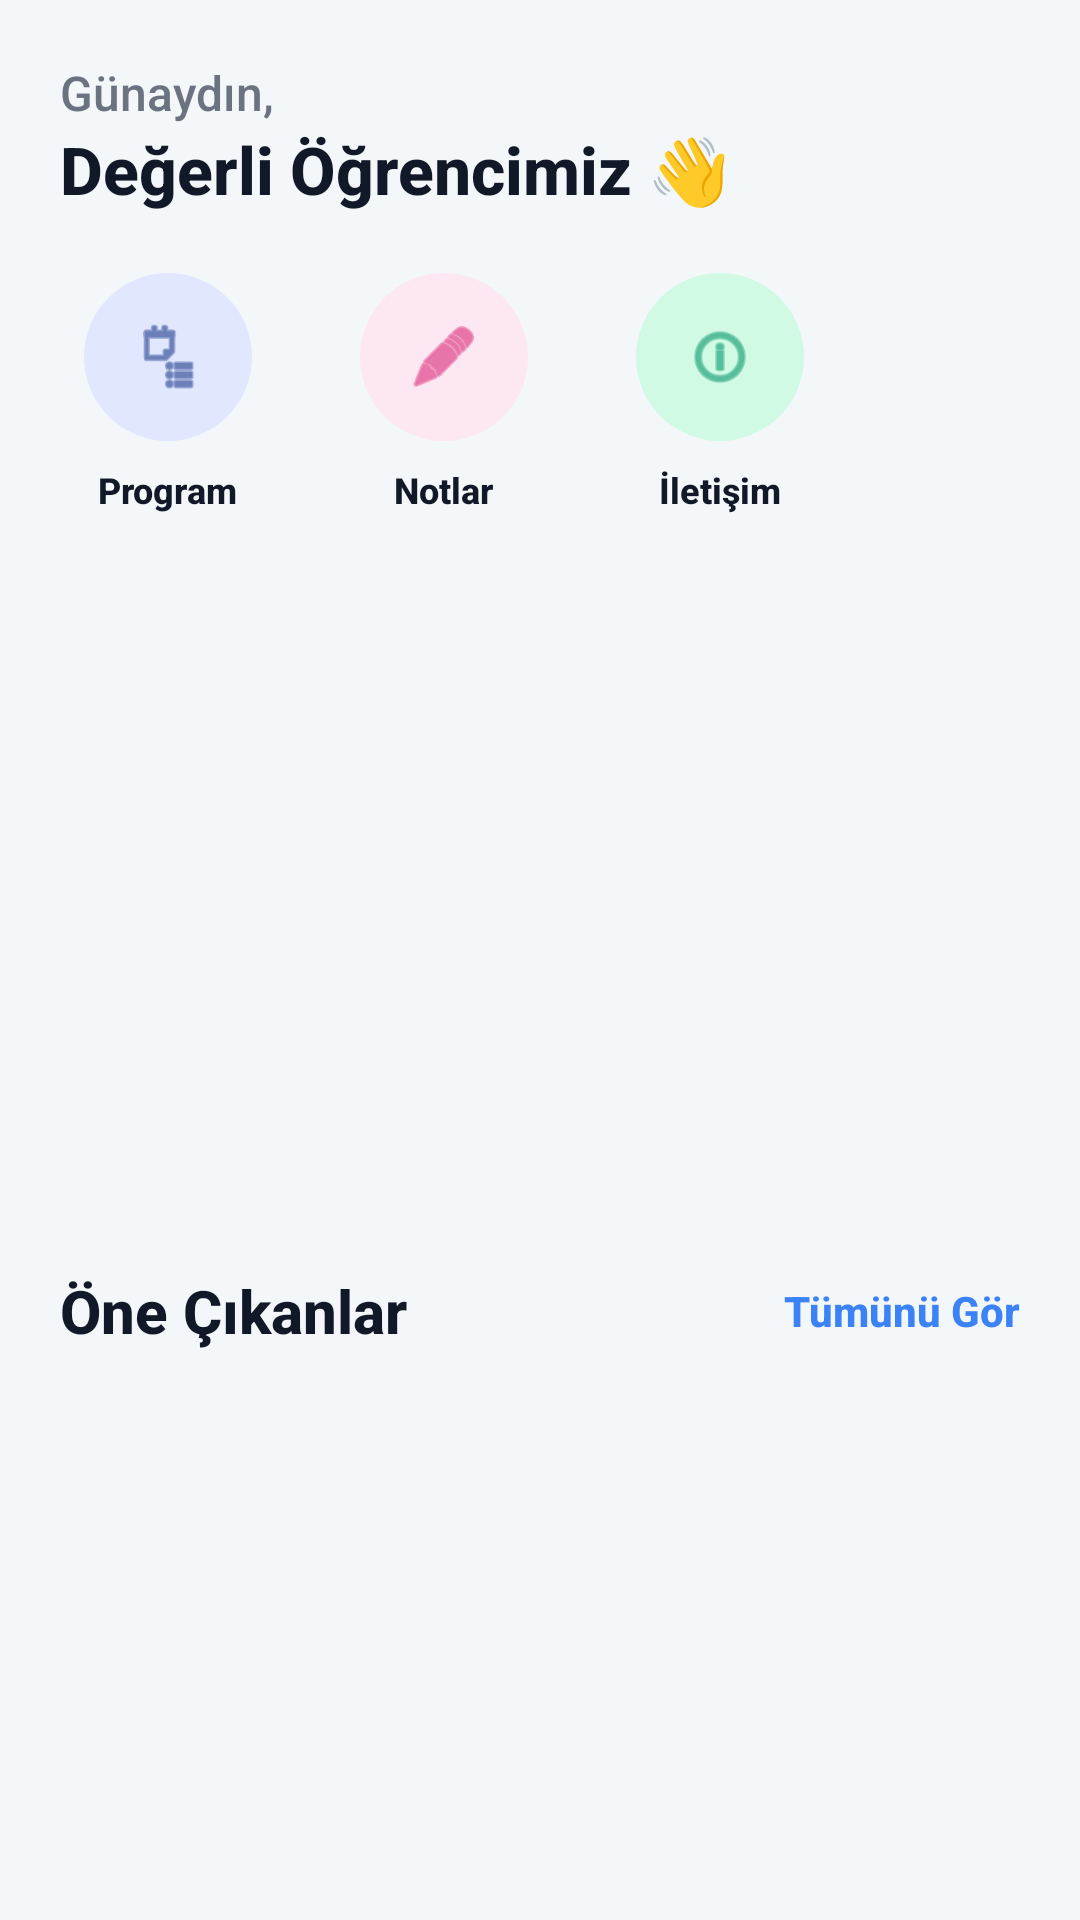

Screen size 1080x1920. Icon name, then its center in pixels as point (x, y):
agenda: point (168, 356)
edit: point (444, 357)
info details: point (720, 357)
